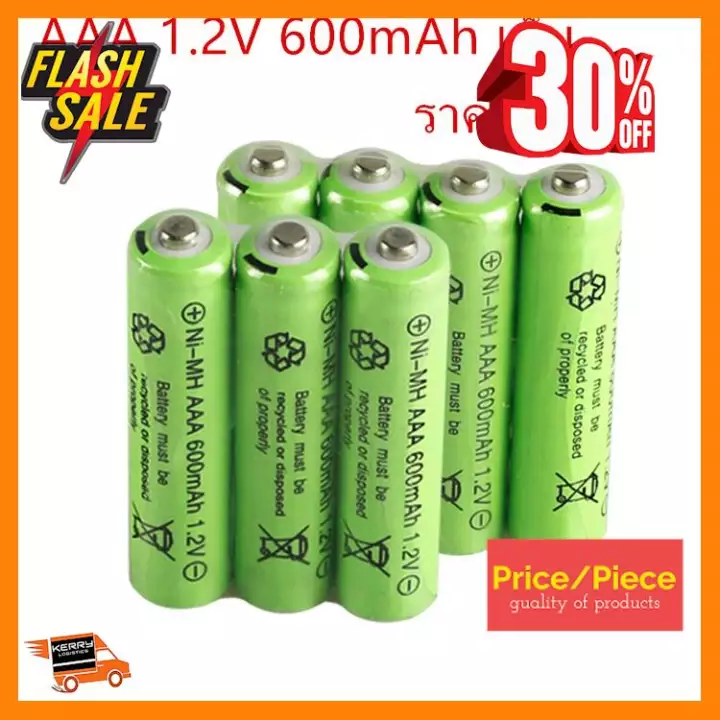Battery: (337, 217, 452, 624), (508, 155, 627, 542), (231, 209, 340, 619), (124, 205, 233, 613), (411, 156, 520, 560), (215, 135, 317, 223), (317, 145, 414, 232)
